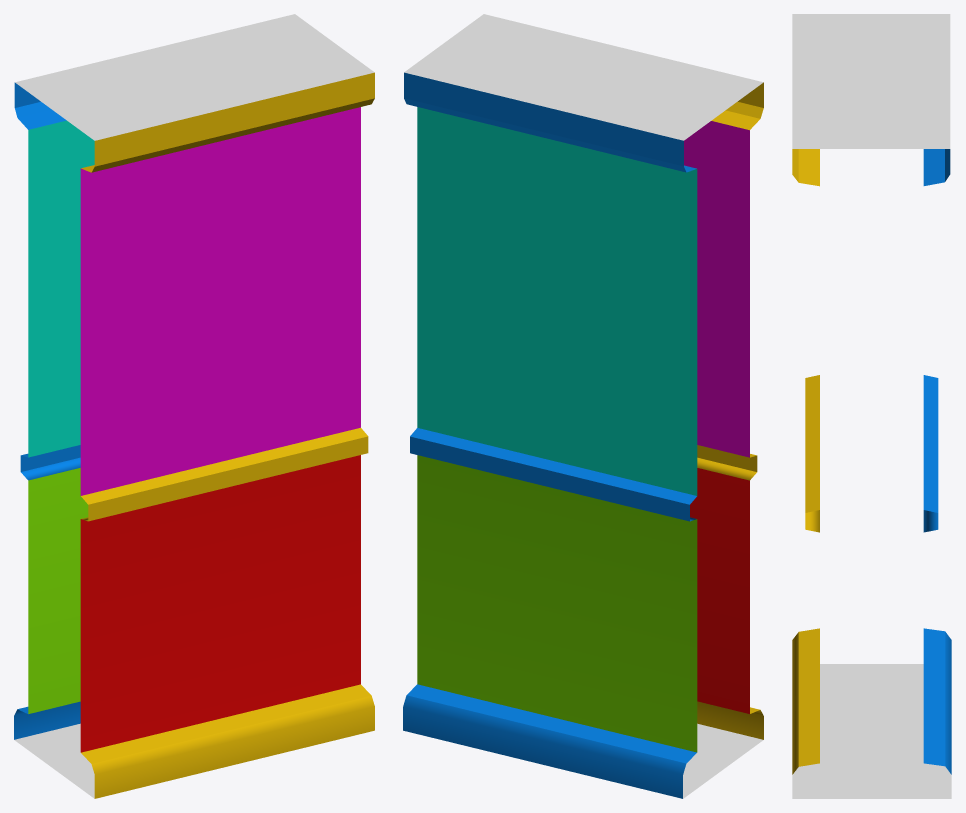
File: Wall_1m_Doublesided.fbx
The picture shows the model from 3 angles, left to right: view 1: azimuth 30°, elevation 25°; view 2: azimuth 150°, elevation 25°; view 3: azimuth 270°, elevation 25°; orthographic projection.
Parts seen in each view (by area): view 1: wall_1m_doublesided; view 2: wall_1m_doublesided; view 3: wall_1m_doublesided.
Boxes of the visible parts, x1,y1,x2,y2 form: wall_1m_doublesided: [14, 14, 374, 798]; wall_1m_doublesided: [403, 14, 763, 798]; wall_1m_doublesided: [792, 14, 951, 798].
Bounding box in the file's own units: 100 × 225 × 49.93.
